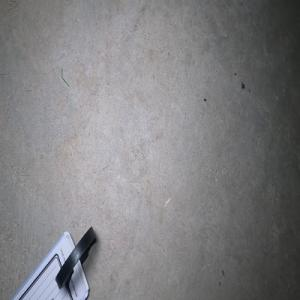LuggageTag: (4, 224, 97, 300)
